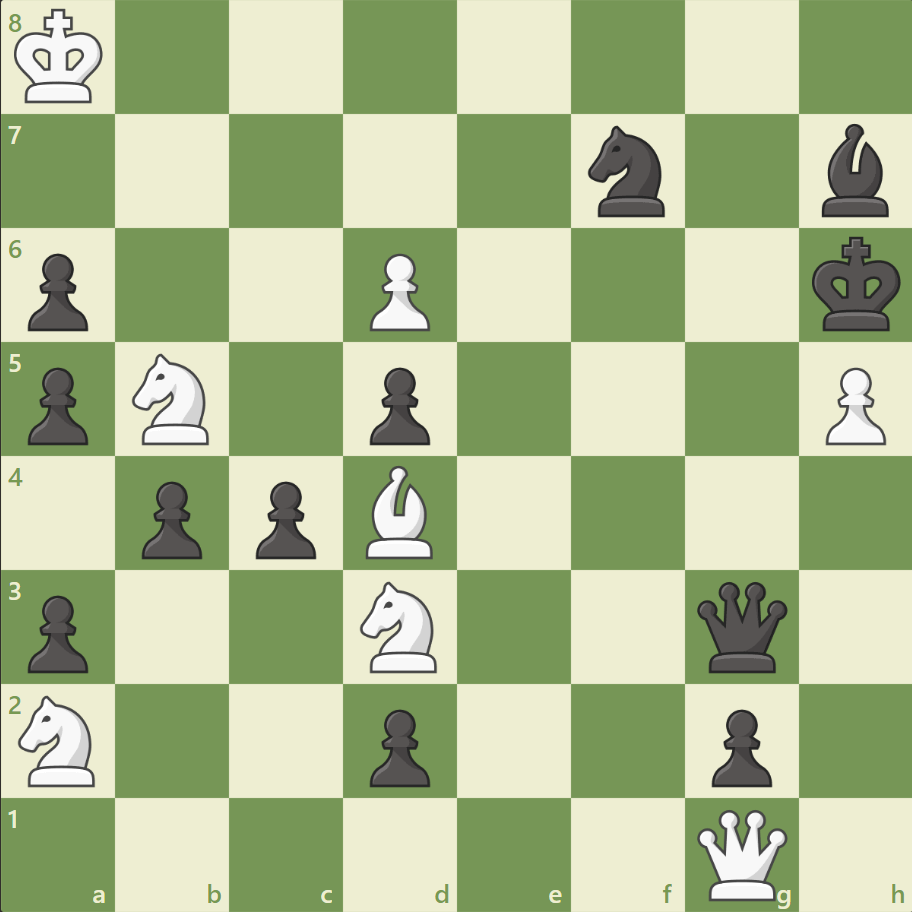B: (358, 460, 442, 563)
K: (11, 4, 111, 112)
N: (124, 348, 222, 450), (351, 575, 449, 677), (11, 688, 108, 791)
P: (361, 246, 435, 337), (815, 359, 889, 450)
Q: (691, 804, 790, 903)
b: (812, 120, 896, 222)
k: (806, 231, 906, 339)
n: (579, 121, 676, 223)
p: (20, 246, 95, 337), (20, 359, 95, 450), (133, 473, 208, 564), (247, 473, 322, 564), (20, 586, 95, 677), (701, 700, 776, 791), (361, 359, 435, 450), (361, 700, 435, 791)
q: (691, 576, 790, 676)
